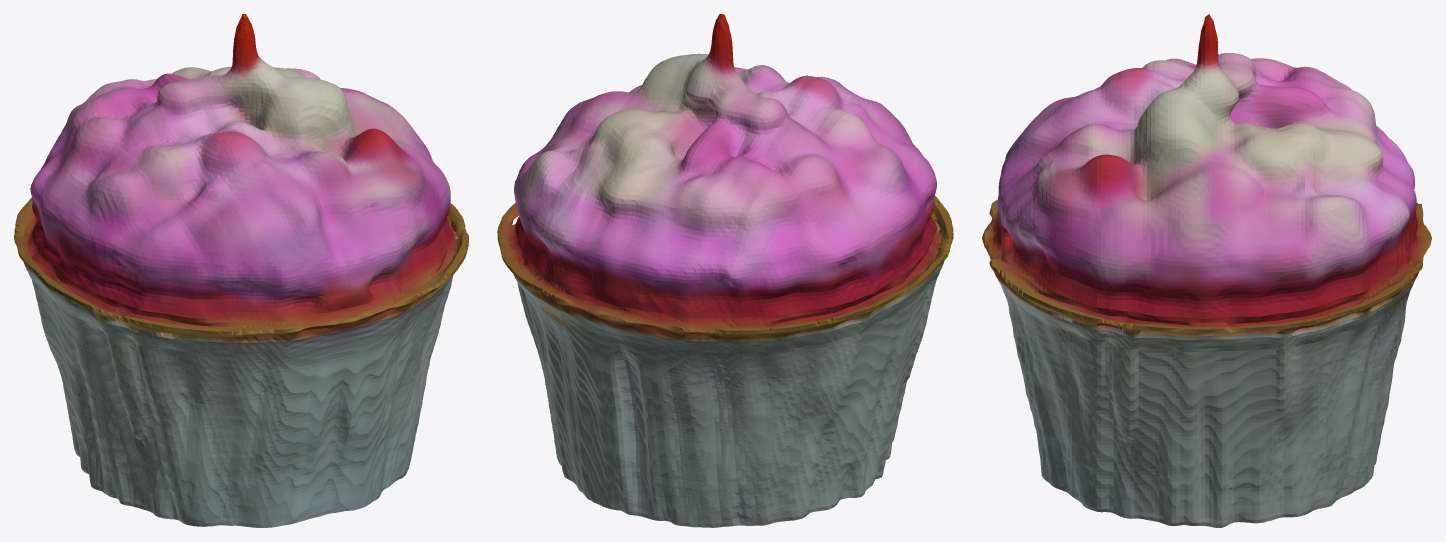
The model's file is 3d_cake.glb.
The picture shows the model from 3 angles, left to right: view 1: azimuth 30°, elevation 25°; view 2: azimuth 150°, elevation 25°; view 3: azimuth 270°, elevation 25°; orthographic projection.
Visible parts, largest first — view 1: 3d_cake.ply; view 2: 3d_cake.ply; view 3: 3d_cake.ply.
Boxes of the visible parts, x1,y1,x2,y2 form: 3d_cake.ply: [14, 14, 468, 527]; 3d_cake.ply: [497, 14, 953, 527]; 3d_cake.ply: [982, 14, 1431, 527].
Size of the model in its own units: 1.68 by 1.83 by 1.68.
